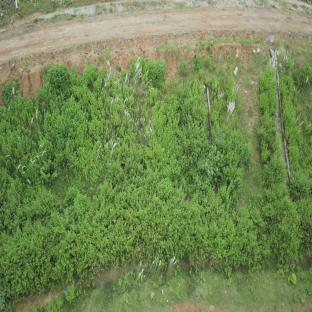slope_drain: (268, 50, 293, 199), (202, 87, 220, 196)
toe_drain: (15, 253, 312, 312)
vegetation: (2, 74, 274, 285), (282, 71, 310, 188), (276, 202, 311, 250)
